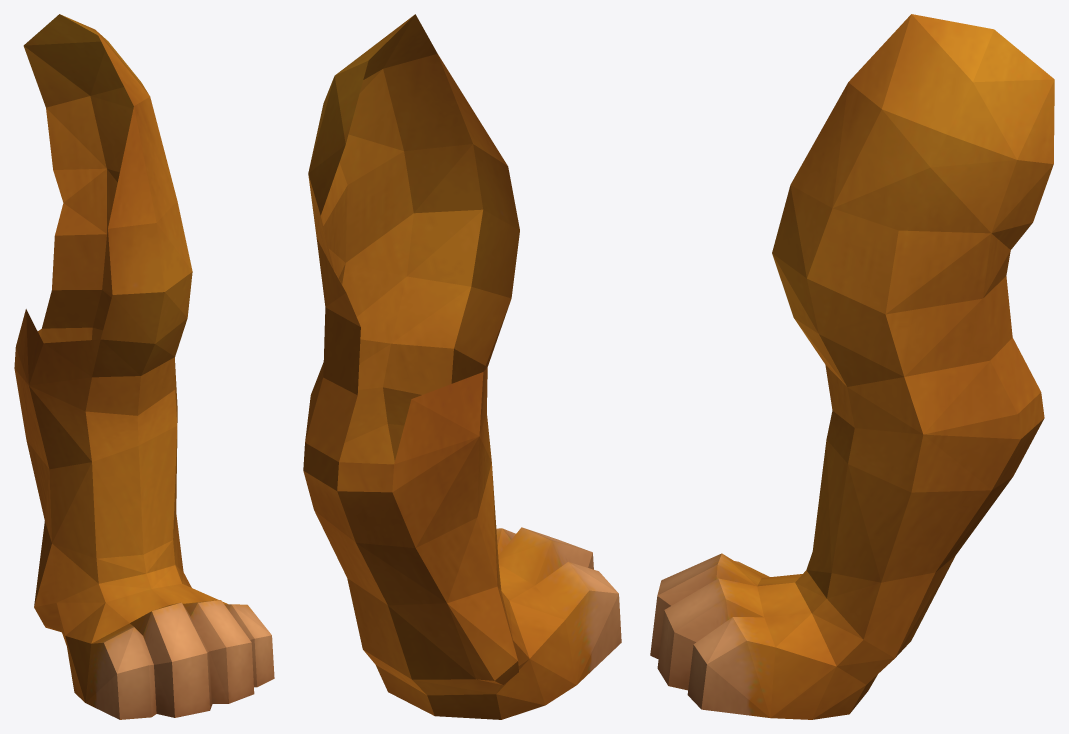
File: delIzqLeon.obj
The picture shows the model from 3 angles, left to right: view 1: azimuth 30°, elevation 25°; view 2: azimuth 150°, elevation 25°; view 3: azimuth 270°, elevation 25°; orthographic projection. The views are drawn at different scales.
Visible parts, largest first — view 1: polySurface51; view 2: polySurface51; view 3: polySurface51.
Boxes of the visible parts, x1=… form: polySurface51: x1=14, y1=14, x2=274, y2=719; polySurface51: x1=303, y1=14, x2=621, y2=719; polySurface51: x1=650, y1=14, x2=1054, y2=719.
Bounding box in the file's own units: 0.2155 × 0.7909 × 0.4293.
1 material, 1 textured.
